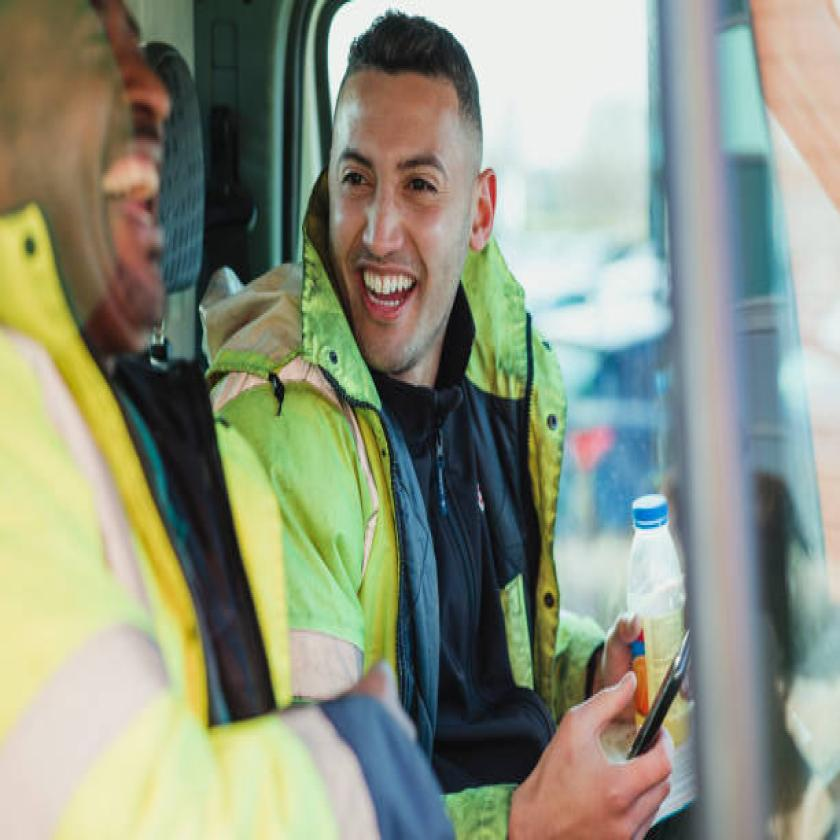Sin_casco: (298, 4, 519, 381), (0, 0, 167, 370)
